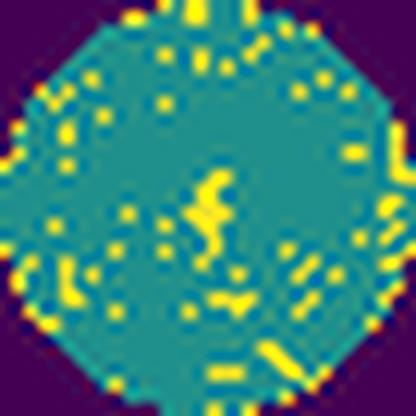Center: (187, 166, 239, 275)
